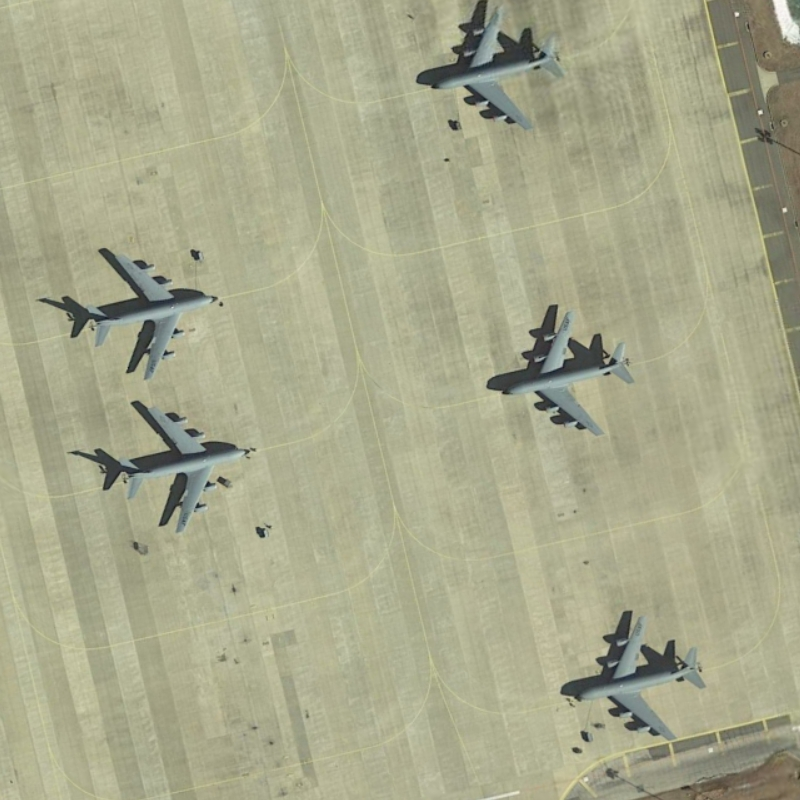A14: (559, 602, 715, 749), (79, 242, 222, 387), (495, 304, 640, 444), (423, 2, 572, 135), (115, 400, 254, 541)
